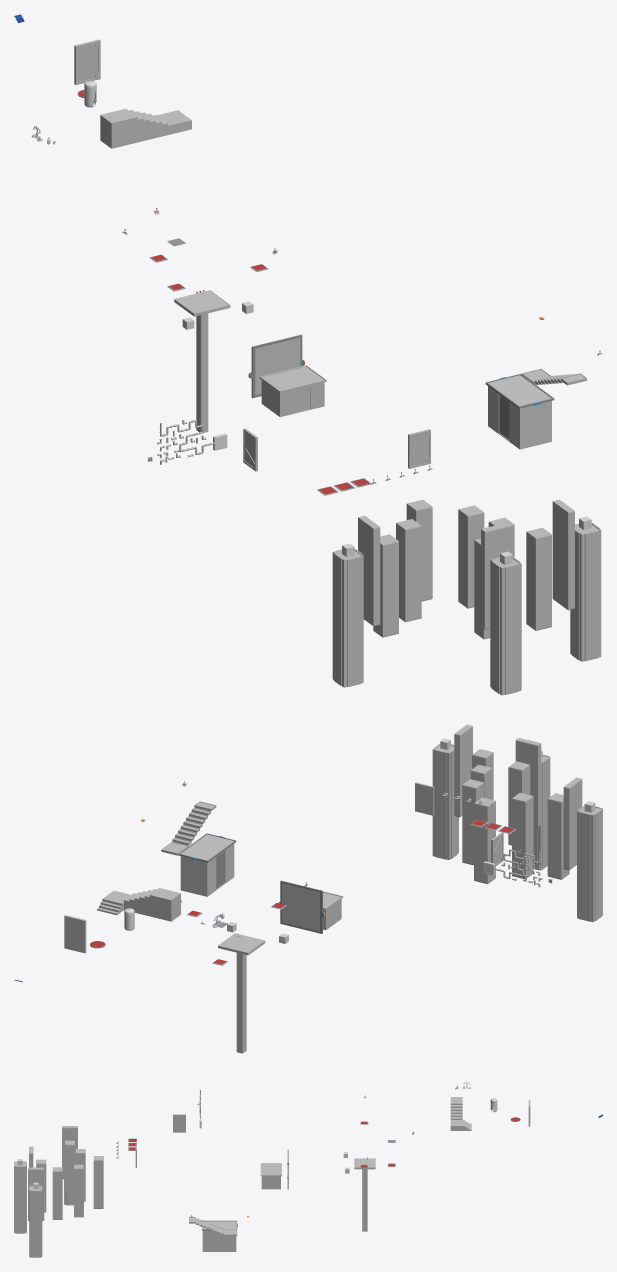
File: apaLegataStatic2.fbx
3 renders of one model, top to bottom at view 1: azimuth 30°, elevation 25°; view 2: azimuth 150°, elevation 25°; view 3: azimuth 270°, elevation 25°, orthographic. The views are drawn at different scales.
Visible parts, largest first — view 1: Cube.206, Cube.199, Cube.290, Cube.293, Cube.182, Cube.294, Cube.200, Cube.207, perete.032, Cube, Cube.253, Cube.183 (+2 smaller); view 2: Cube.293, Cube.199, Cube.182, Cube.200, Cube.294, Cube.207, Cube.210, Cube, Cube.183, Cube.206, Cube.253, Cube.290 (+4 smaller); view 3: Cube.210, Cube.294, Cube.200, Cube.290, Cube.182, Cube.207, Cube.253, perete.032, Cube, Cube.206, Cube.219, Cube.293.
Boxes of the visible parts, x1,y1,x2,y2 form: Cube.206: (358, 515, 551, 630); Cube.199: (332, 548, 363, 687); Cube.290: (490, 556, 521, 695); Cube.293: (396, 519, 511, 629); Cube.182: (485, 374, 554, 449); Cube.294: (373, 505, 484, 637); Cube.200: (570, 522, 601, 661); Cube.207: (474, 499, 574, 639); perete.032: (259, 365, 326, 417); Cube: (100, 108, 191, 148); Cube.253: (174, 290, 230, 432); Cube.183: (250, 334, 303, 398); Cube.293: (512, 738, 541, 879); Cube.199: (577, 805, 602, 921); Cube.182: (178, 833, 236, 896); Cube.200: (432, 743, 458, 859); Cube.294: (462, 779, 569, 879); Cube.207: (454, 724, 530, 845); Cube.210: (470, 764, 495, 883); Cube: (97, 888, 180, 921); Cube.183: (279, 880, 323, 933); Cube.206: (472, 749, 582, 870); Cube.253: (218, 933, 265, 1053); Cube.290: (533, 754, 550, 870); Cube.210: (52, 1156, 103, 1219); Cube.294: (65, 1140, 83, 1217); Cube.200: (29, 1185, 42, 1257); Cube.290: (14, 1161, 26, 1233); Cube.182: (201, 1220, 237, 1251); Cube.207: (28, 1159, 46, 1220); Cube.253: (354, 1158, 375, 1231); perete.032: (260, 1163, 281, 1189); Cube: (450, 1097, 471, 1130); Cube.206: (62, 1126, 77, 1179); Cube.219: (189, 1217, 237, 1236); Cube.293: (29, 1146, 85, 1201).
Bounding box in the file's own units: 6971 × 4103 × 15141.
